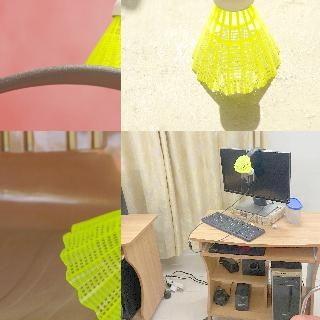shuttlecock: (60, 169, 120, 319), (191, 0, 281, 93), (85, 0, 120, 74), (234, 154, 253, 174)
